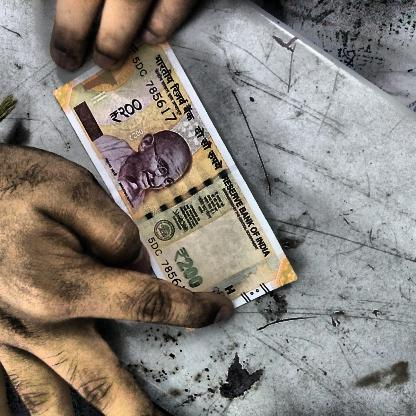Rs200: (168, 243, 208, 292)
